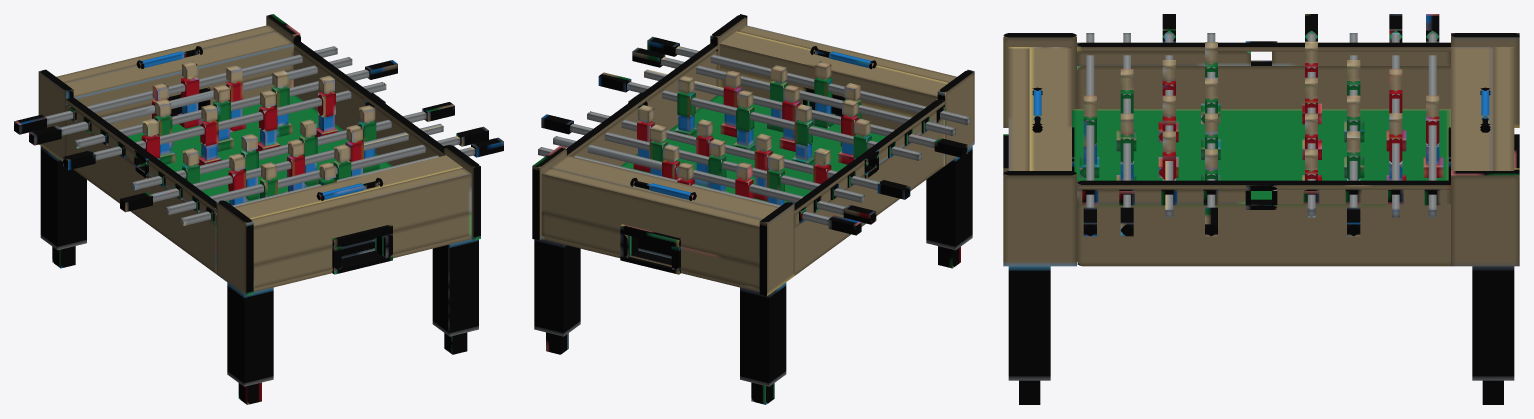
The model's file is football_table.fbx.
The picture shows the model from 3 angles, left to right: view 1: azimuth 30°, elevation 25°; view 2: azimuth 150°, elevation 25°; view 3: azimuth 270°, elevation 25°; orthographic projection. The views are drawn at different scales.
Parts seen in each view (by area): view 1: cube_18, cube_20, cube_44, cube_4, cube_6, cube_2, cube_9, cube_15, cube_13, cube_78, cube_81, cube_17 (+30 smaller); view 2: cube_21, cube_15, cube_44, cube_2, cube_1, cube_4, cube_9, cube_20, cube_11, cube_19, cube_77, cube_82 (+35 smaller); view 3: cube_10, cube_9, cube_44, cube_14, cube_12, cube_15, cube_20, cube_1, cube_6, cube_24, cube_45, cube_18 (+16 smaller).
Part boxes in pixels (x1,y1,x2,y2): cube_18: (245,168,471,265); cube_20: (65,31,293,117); cube_44: (66,119,216,274); cube_4: (227,282,273,386); cube_6: (432,239,478,336); cube_2: (40,146,86,250); cube_9: (127,95,392,203); cube_15: (234,155,462,219); cube_13: (216,200,253,295); cube_78: (165,136,460,214); cube_81: (45,46,337,124); cube_17: (375,212,471,256); cube_21: (541,167,761,265); cube_15: (719,31,948,117); cube_44: (794,119,944,275); cube_2: (740,282,786,386); cube_1: (534,239,580,336); cube_4: (926,146,972,250); cube_9: (620,95,885,203); cube_20: (550,155,778,219); cube_11: (759,201,794,295); cube_19: (541,212,638,256); cube_77: (675,46,970,125); cube_82: (553,136,845,214); cube_10: (1077,199,1450,266); cube_9: (1072,109,1450,199); cube_44: (1077,61,1450,108); cube_14: (1003,171,1076,266); cube_12: (1451,171,1519,266); cube_15: (1029,47,1071,170); cube_20: (1451,47,1493,170); cube_1: (1472,266,1514,380); cube_6: (1008,266,1050,380); cube_24: (1077,180,1450,189); cube_45: (1077,42,1450,51); cube_18: (1008,47,1029,170).
Bounding box in the file's own units: 148 × 78.12 × 153.
1 material, 1 textured.
